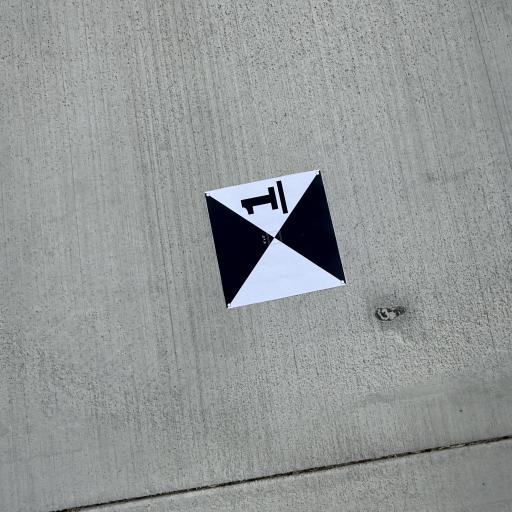target1: (194, 166, 350, 310)
